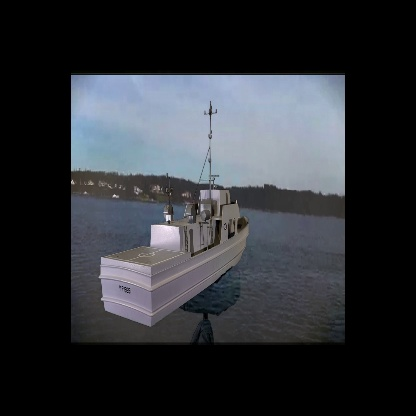YP689: (99, 100, 253, 325)
